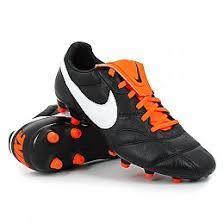nike: (49, 50, 124, 134), (133, 60, 146, 86)
